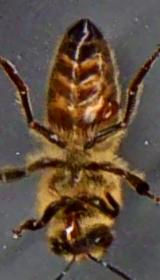varroa_mite: (100, 98, 118, 120)
